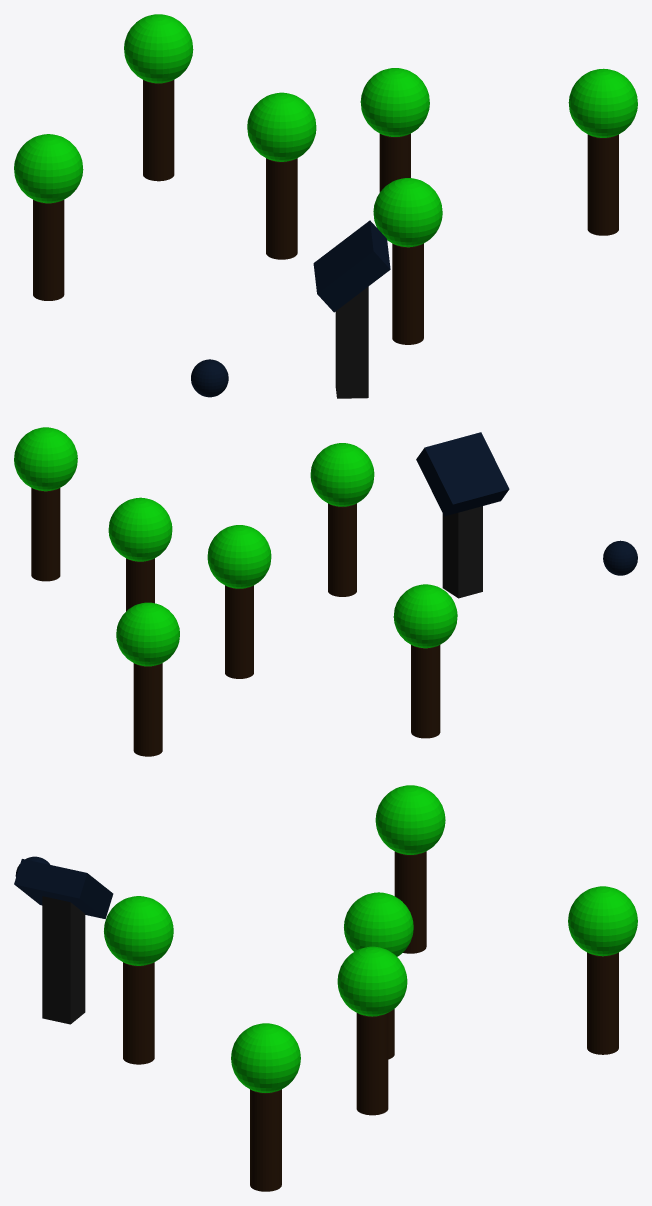
File: exercise20033.obj
3 views of the same model, one above another, from view 1: azimuth 30°, elevation 25°; view 2: azimuth 150°, elevation 25°; view 3: azimuth 270°, elevation 25° (orthographic). The views are drawn at different scales.
Visible parts, largest first — view 1: Cube.001, Sphere.005, Sphere.002, Sphere.006, Sphere, Sphere.003, Sphere.004, Cube, Cylinder.002, Cylinder.003, Cylinder.005, Cylinder.004 (+4 smaller); view 2: Cube.001, Cube, Sphere, Sphere.005, Sphere.006, Sphere.003, Sphere.004, Sphere.002, Cylinder.003, Cylinder.005, Cylinder.006, Cylinder.002 (+4 smaller); view 3: Cube, Sphere, Sphere.006, Sphere.004, Sphere.005, Sphere.003, Sphere.002, Cube.001, Cylinder.004, Cylinder.003, Cylinder.005, Cylinder (+2 smaller).
Part boxes in pixels (x1,y1,x2,y2): Cube.001: (313,220,390,312); Sphere.005: (124,14,193,83); Sphere.002: (247,92,316,161); Sphere.006: (14,134,83,203); Sphere: (360,68,429,136); Sphere.003: (568,68,637,137); Sphere.004: (373,178,442,247); Cube: (335,286,368,398); Cylinder.002: (266,158,297,259); Cylinder.003: (587,134,618,235); Cylinder.005: (143,80,174,181); Cylinder.004: (392,243,423,344); Cube.001: (416,432,509,516); Cube: (442,506,482,598); Sphere: (108,497,172,561); Sphere.005: (116,602,179,666); Sphere.006: (393,584,457,648); Sphere.003: (14,427,77,491); Sphere.004: (310,443,374,506); Sphere.002: (207,525,271,588); Cylinder.003: (31,488,60,581); Cylinder.005: (133,663,162,756); Cylinder.006: (411,645,440,738); Cylinder.002: (225,585,253,678); Cube: (42,896,85,1024); Sphere: (337,946,407,1016); Sphere.006: (375,785,445,854); Sphere.004: (104,896,173,965); Sphere.005: (568,886,637,956); Sphere.003: (231,1023,300,1092); Sphere.002: (344,892,413,956); Cube.001: (14,859,113,919); Cylinder.004: (123,962,154,1064); Cylinder.003: (250,1089,281,1191); Cylinder.005: (587,952,618,1054); Cylinder: (356,1013,388,1114).
Size of what is drawn, in the model's own units: 40.53 by 11.23 by 39.13.
